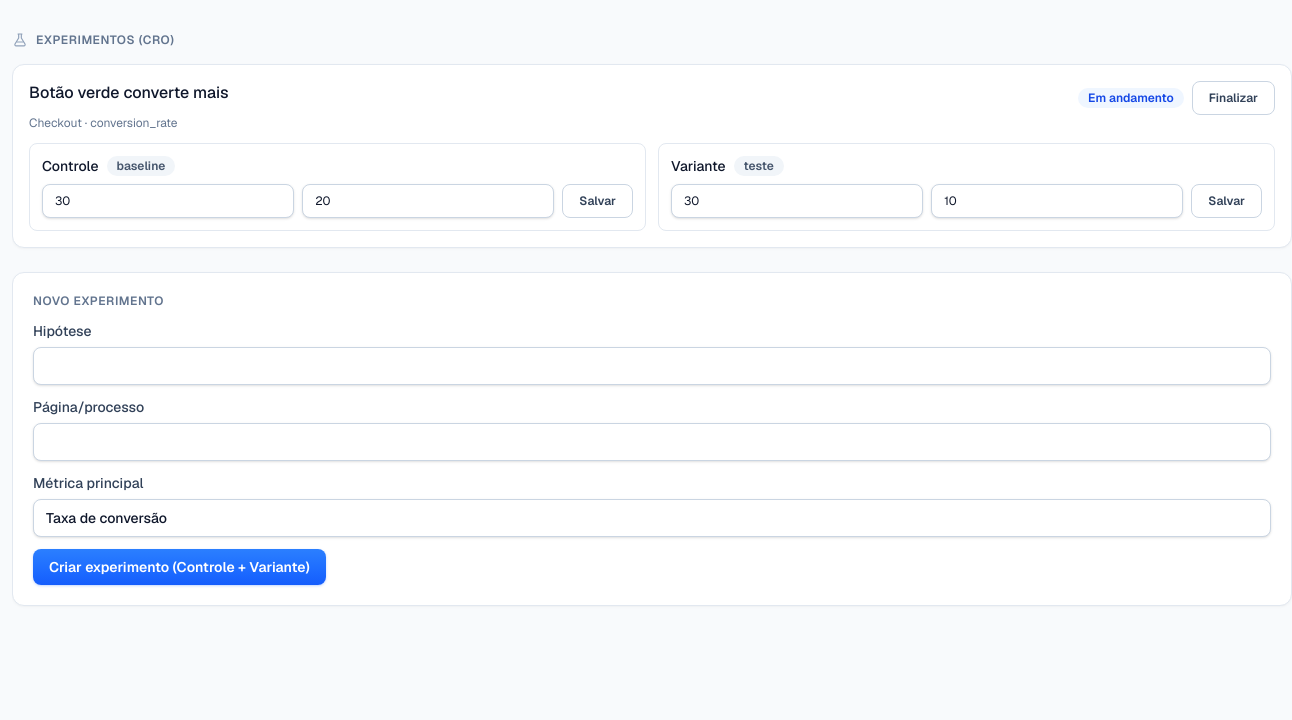
Test: ExperimentsPage › falha ao avançar o status mostra o erro e mantém o status anterior
Expected: the text "Botão verde converte mais" is shown, [29,81,228,105]
Click the button "Finalizar" at (1233, 98), box [1192,81,1275,115]
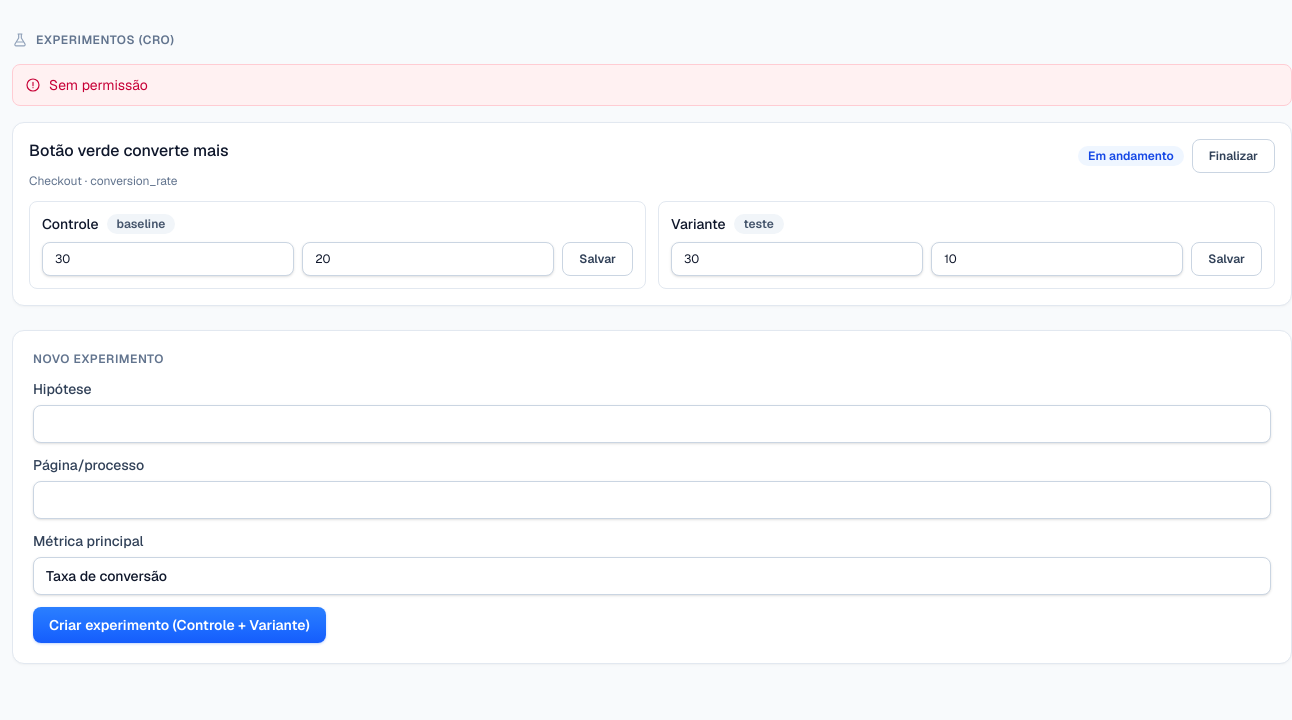
Expected: the text "Em andamento" is shown, [1078,146,1184,166]
Expected: the text "Sem permissão" is shown, [49,75,148,95]
